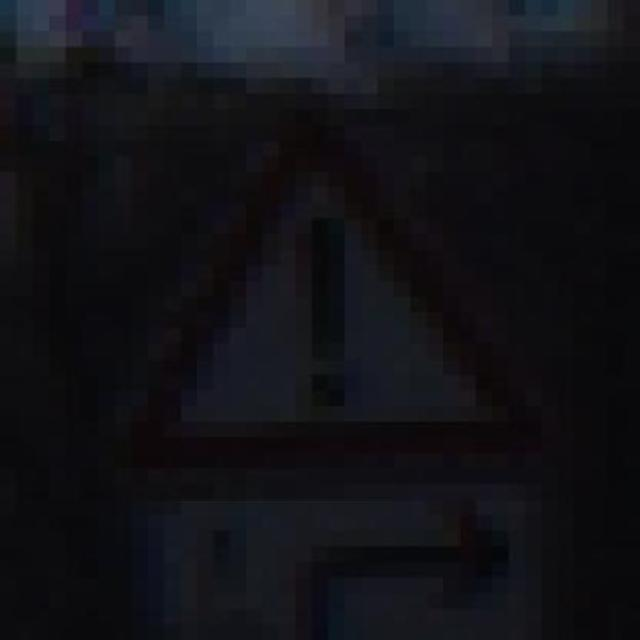Attention Please-: (99, 93, 542, 484)
